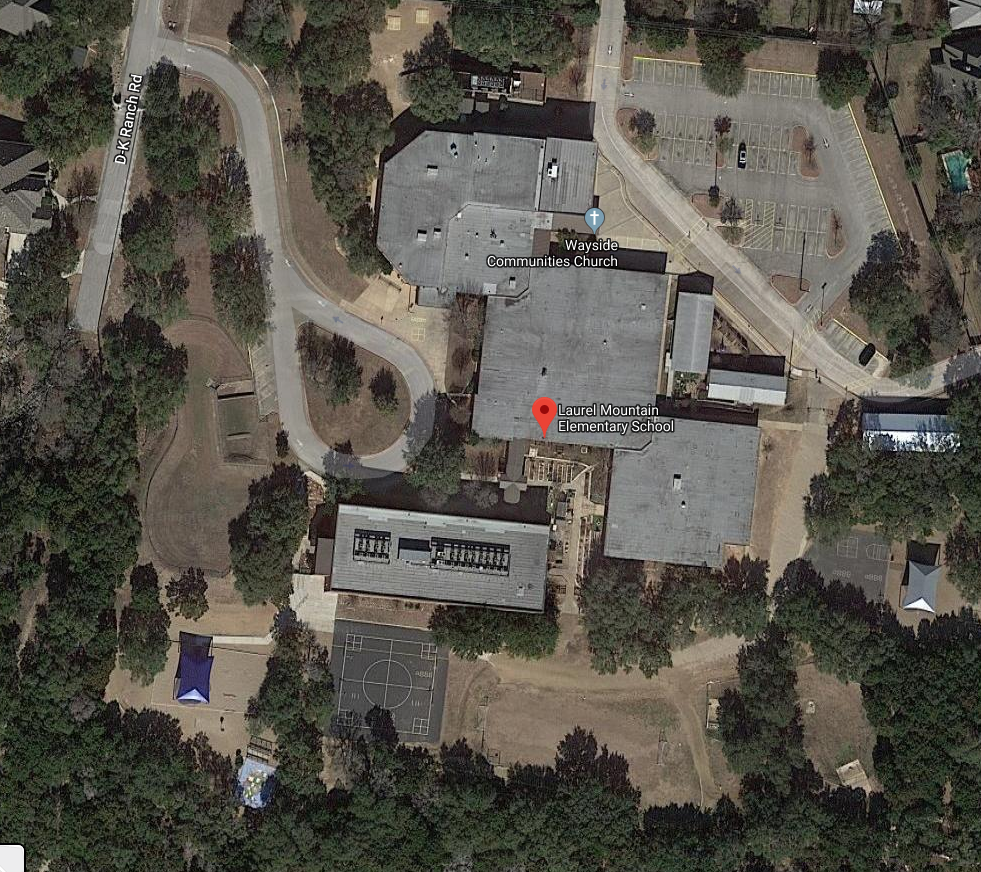blacktop: (334, 620, 443, 736)
